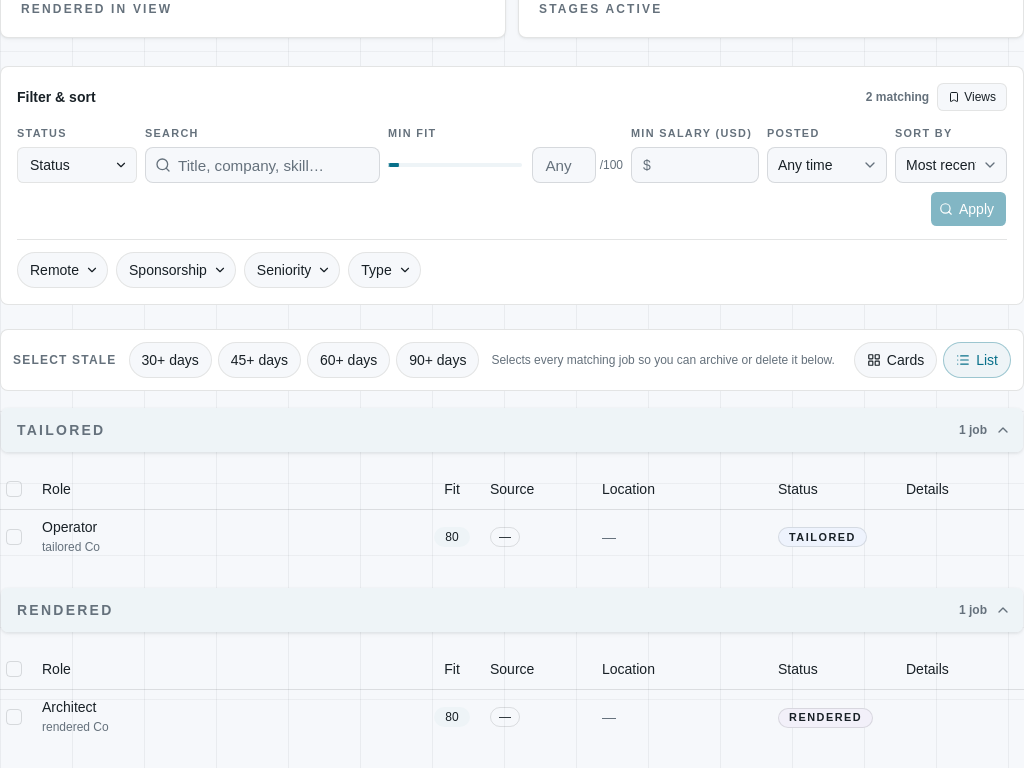
Test: PipelineContainer › opens redo for the current selection with re-tailor pre-ticked
The width and height of the screenshot is (1024, 768).
(page scrolled)
What coordinates should you click on to do the following:
click the checkbox named "Select tailored Co Operator"
I would click on:
 (14, 536)
Its box is [6,528,22,544].
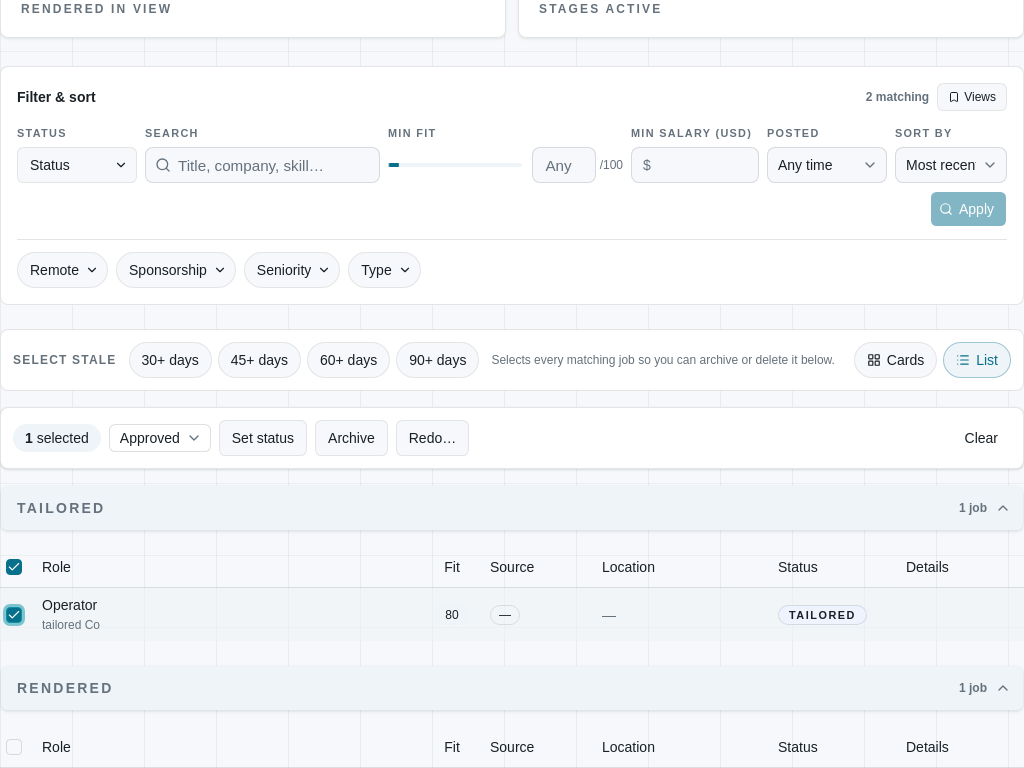
What coordinates should you click on to do the following:
click the button "Redo…"
I would click on:
 (432, 438)
Its box is [396,420,469,456].
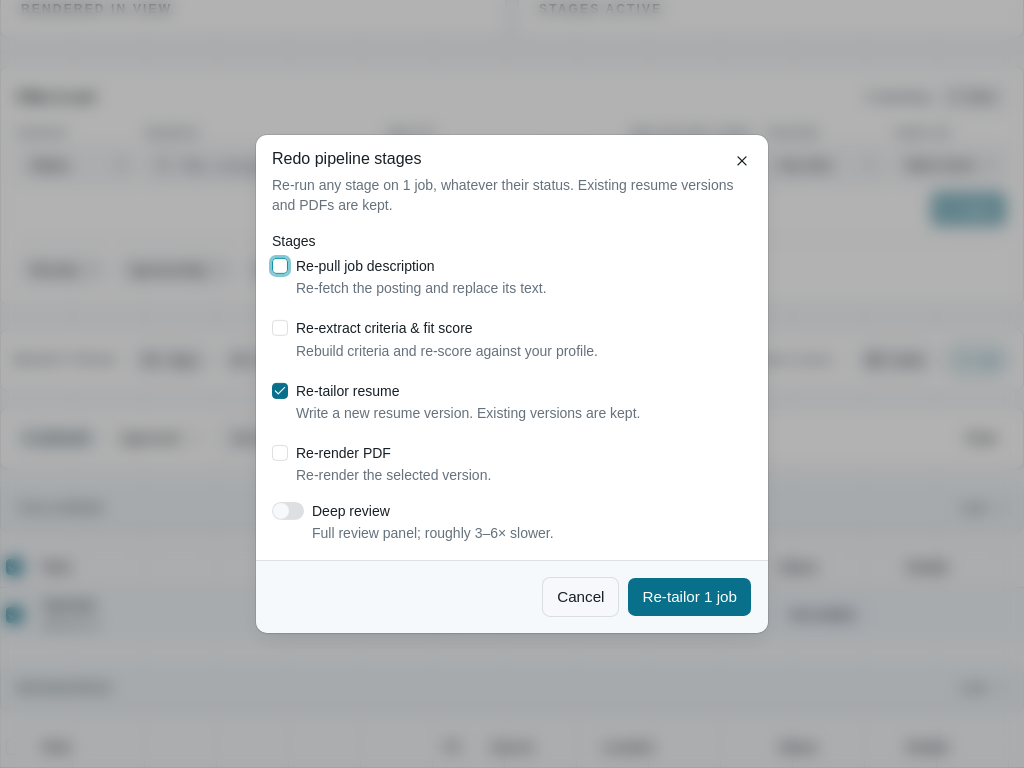
Now the checkbox named "re-tailor resume" next to "Re-tailor resume" is checked, box [272,382,288,398]
Now the button "Re-tailor 1 job" is enabled, box [628,577,752,617]
